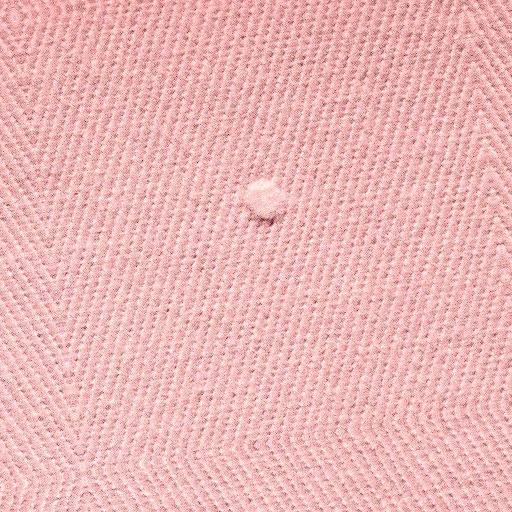knot: (239, 176, 301, 232)
